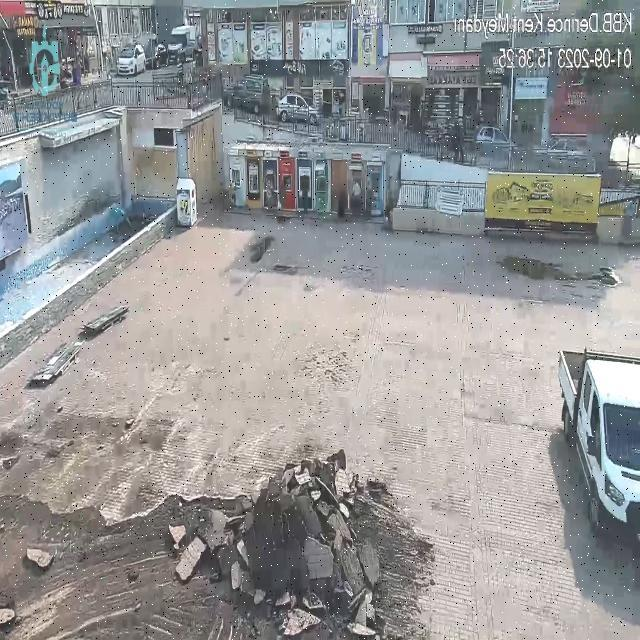Car: (532, 136, 589, 168), (224, 74, 268, 113), (472, 125, 517, 157), (276, 93, 320, 125), (116, 45, 147, 75), (148, 44, 168, 68)
Truck: (557, 343, 640, 535)
Van: (166, 21, 198, 63)
